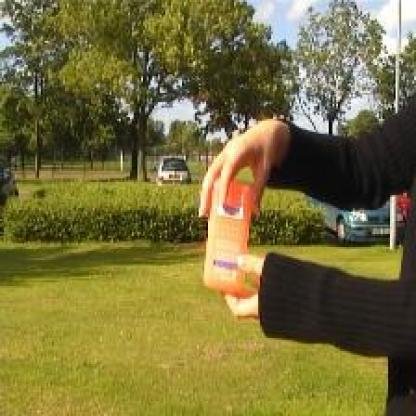other: (196, 160, 254, 301)
